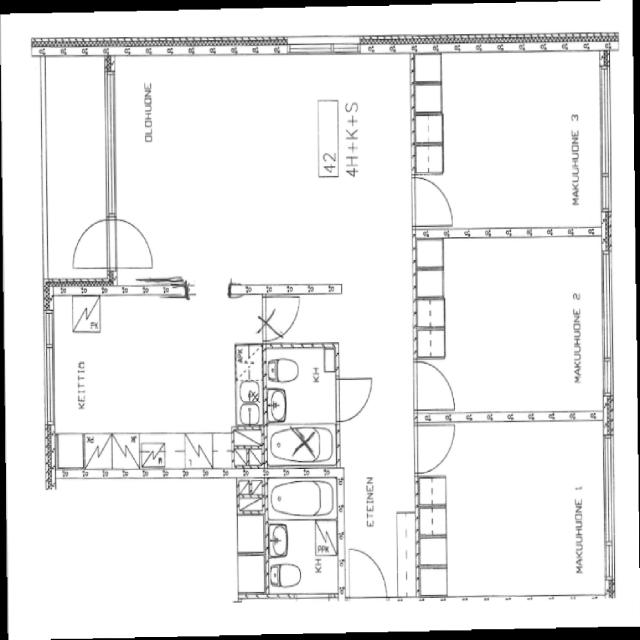door: (346, 544, 393, 606), (412, 171, 457, 233), (112, 212, 157, 274), (414, 356, 458, 418), (69, 213, 113, 274), (415, 419, 457, 477), (334, 374, 375, 424), (263, 293, 302, 345)
window: (97, 67, 124, 223), (38, 305, 61, 434), (596, 248, 618, 378), (596, 64, 618, 191), (598, 434, 620, 558), (112, 273, 188, 303), (281, 35, 366, 57), (450, 224, 516, 243), (598, 168, 614, 216), (601, 539, 617, 583), (290, 590, 332, 606), (238, 589, 264, 605)
zone: (105, 54, 416, 292), (47, 292, 262, 470), (412, 49, 608, 234), (415, 235, 609, 418), (415, 420, 611, 601), (265, 472, 343, 597), (262, 346, 338, 424), (266, 423, 338, 470)
